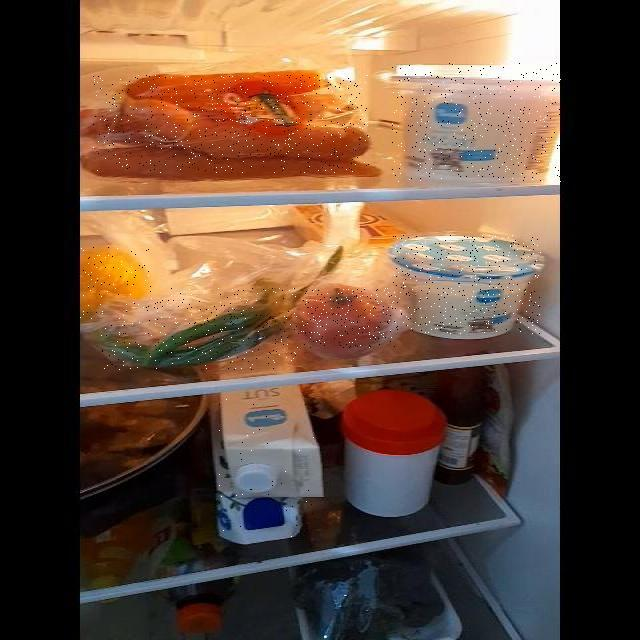broccoli: (299, 568, 446, 636)
carrot: (93, 75, 369, 173)
green chilies: (101, 288, 305, 370)
lemon: (80, 247, 152, 319)
milk: (216, 396, 320, 538)
tomato: (299, 288, 395, 348)
yoghurt: (392, 62, 561, 182), (392, 235, 541, 334)
